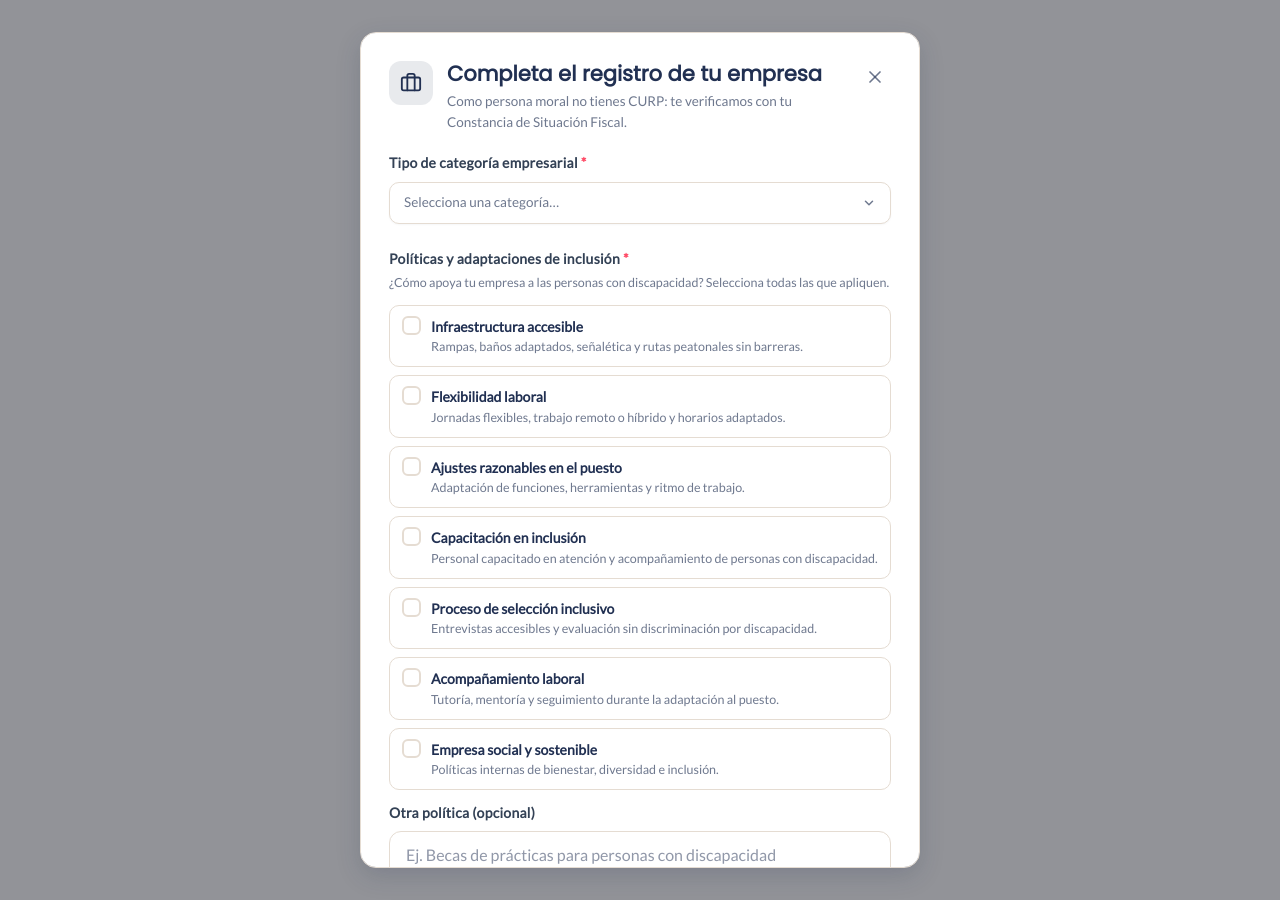
Test case: EmpresaOnboardingModal › ofrece el enum de categoría que valida el backend
What coordinates should you click on to do the following:
click the button "Selecciona una categoría…"
I would click on:
 (481, 202)
Its box is [389,182,891,224].
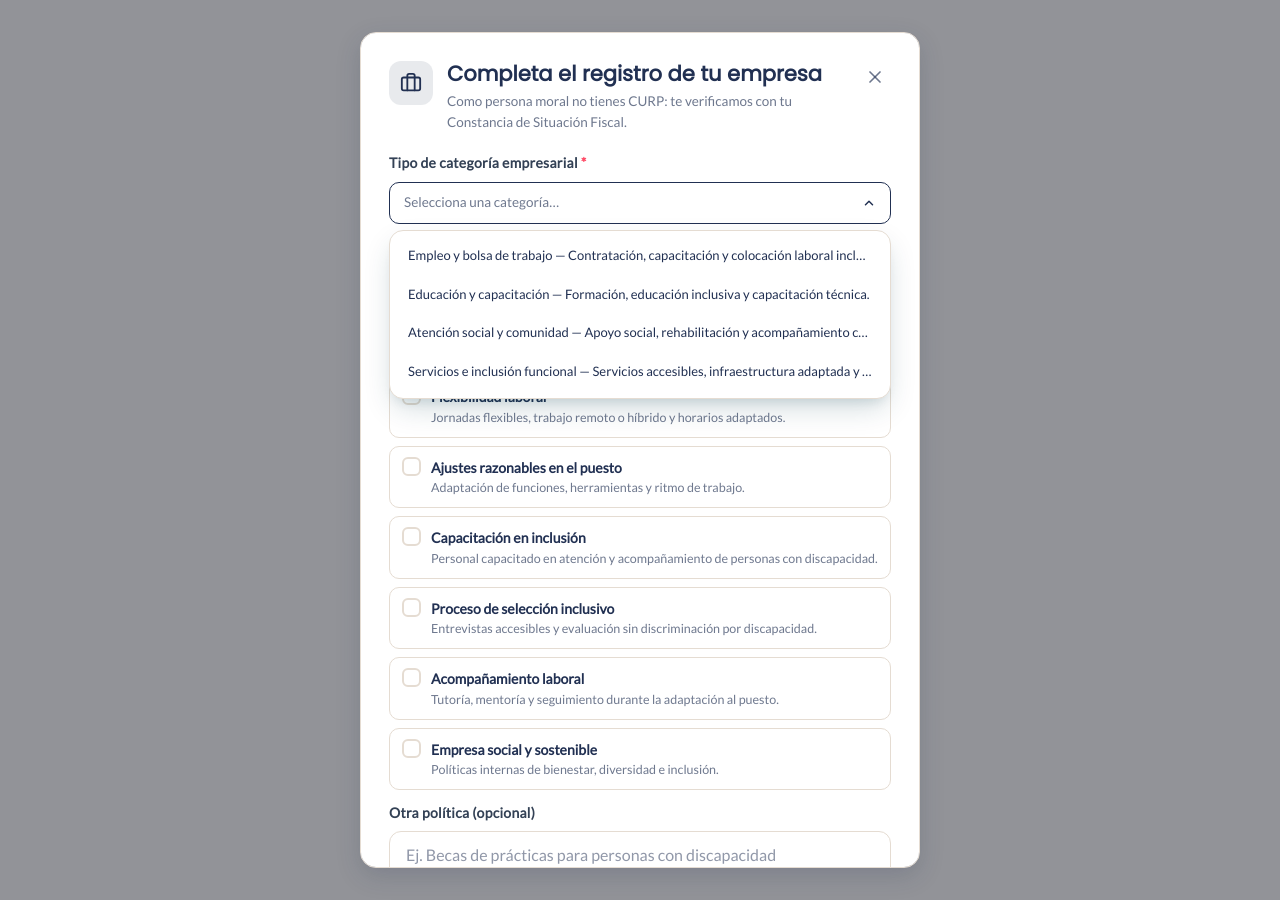
expect the text "Empleo y bolsa de trabajo" is shown: met, box [408,247,888,263]
expect the text "Educación y capacitación" is shown: met, box [408,286,870,302]
expect the text "Atención social y comunidad" is shown: met, box [408,324,891,340]
